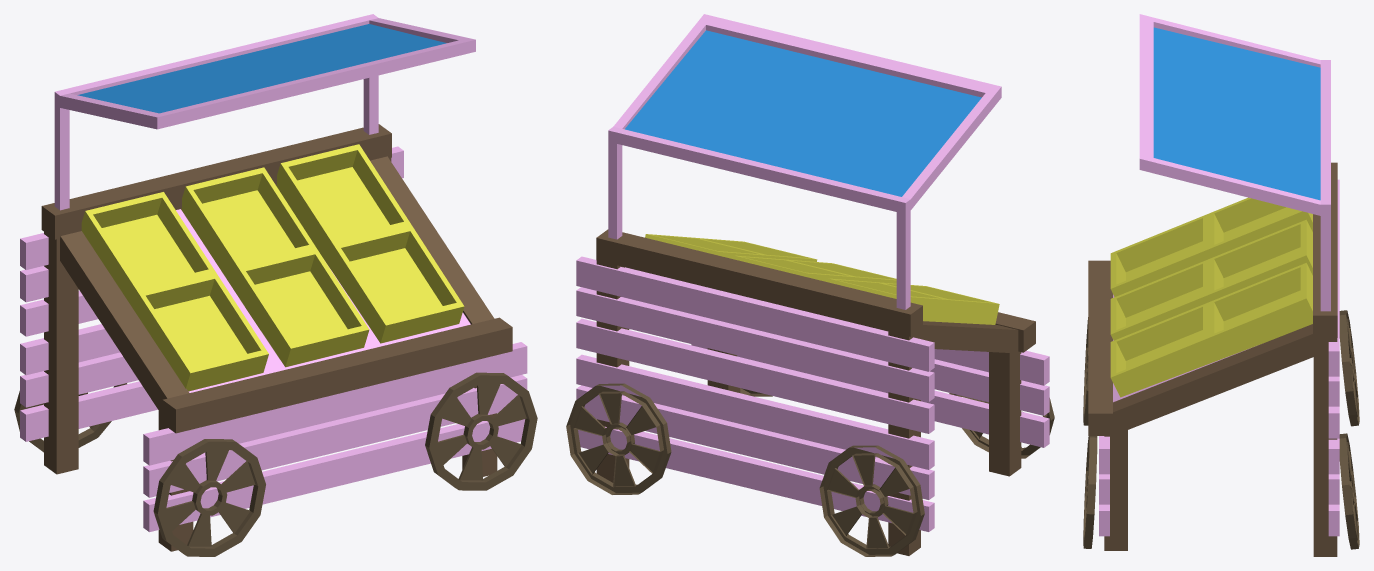
File: CartPlayerBlue.fbx
3 renders of one model, left to right at view 1: azimuth 30°, elevation 25°; view 2: azimuth 150°, elevation 25°; view 3: azimuth 270°, elevation 25°, orthographic. The views are drawn at different scales.
Parts seen in each view (by area): view 1: Cart.002; view 2: Cart.002; view 3: Cart.002.
Boxes of the visible parts, bbox=[...] form: Cart.002: bbox=[14, 14, 537, 556]; Cart.002: bbox=[566, 14, 1054, 556]; Cart.002: bbox=[1083, 14, 1359, 556].
Bounding box in the file's own units: 7.02 × 7.47 × 4.73.
